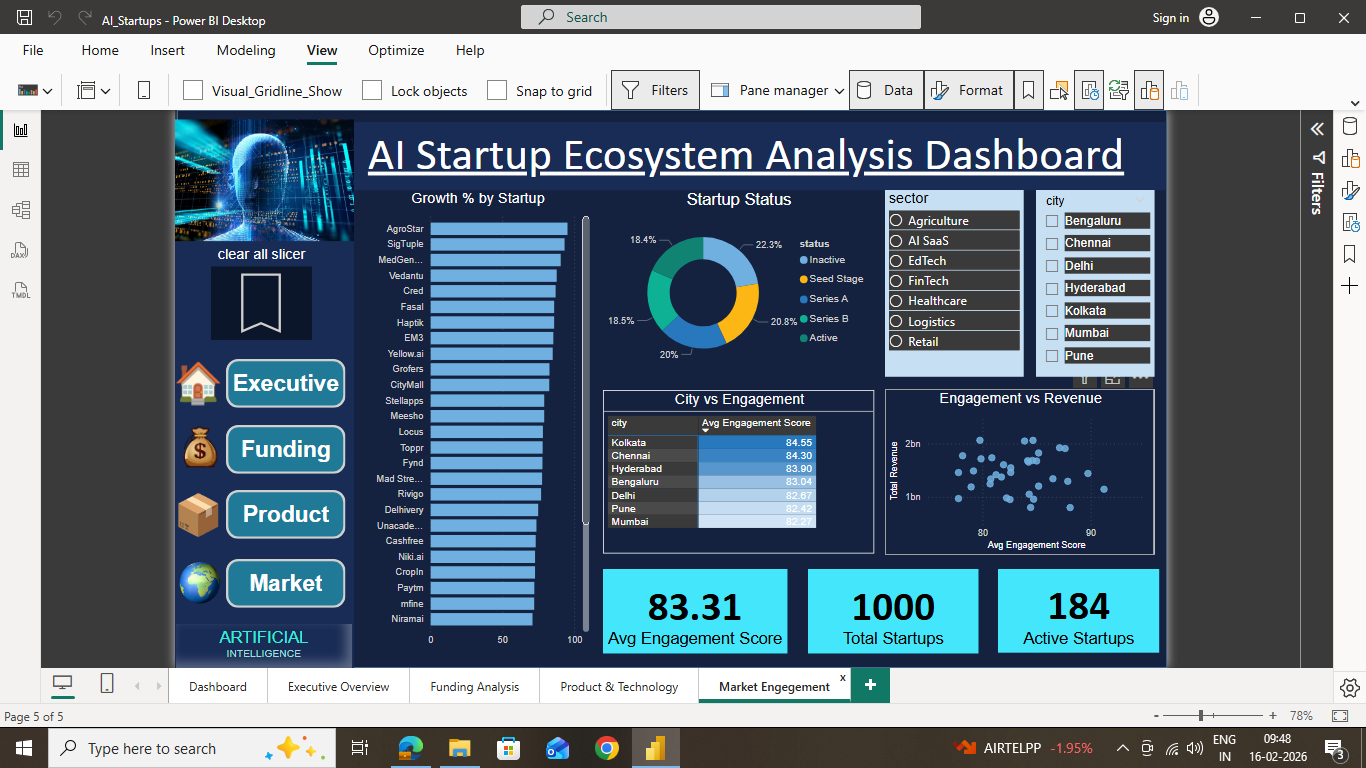

The dashboard page shown, as its layout file describes it:
{"tool":"powerbi","page":{"name":"Market Engegement","canvas":[1280,720],"ordinal":4},"visuals":[{"type":"shape","box":[2.4,0,1277.6,720.1],"z":0},{"type":"actionButton","box":[65.7,321.4,154.3,62.9],"z":0,"group":"g6"},{"type":"actionButton","box":[65.7,491.4,154.3,62.9],"z":0,"group":"g3"},{"type":"group","id":"g1","title":"Group 4","box":[5.7,571.4,214.3,77.1],"z":0,"group":"g5"},{"type":"actionButton","box":[65.7,578.5,154.3,62.9],"z":0,"group":"g1"},{"type":"textbox","box":[194.6,16.1,1083.9,87.5],"z":1000},{"type":"image","box":[0,321.4,60,62.9],"z":1000,"group":"g6"},{"type":"image","box":[0,485.7,60,74.3],"z":1000,"group":"g3"},{"type":"image","box":[5.7,571.4,54.3,77.1],"z":1000,"group":"g1"},{"type":"shape","box":[0,15.5,231,705.2],"z":2000},{"type":"image","box":[0,5.2,231,170.7],"z":3000},{"type":"card","fields":{"Values":["measure.Avg Engagement Score"]},"box":[552.4,591.7,237.8,109.1],"z":4000},{"type":"donutChart","title":"Startup Status","fields":{"Y":["measure.Total Startups"],"Category":["AI_Startups.status"]},"box":[552.4,103.7,350.4,241.3],"z":5000},{"type":"clusteredBarChart","title":"Growth % by Startup","fields":{"Category":["AI_Startups.startup_name"],"Y":["measure.Avg Growth %"]},"box":[243.1,103.7,296.8,597.1],"z":6000},{"type":"scatterChart","title":"Engagement vs Revenue","fields":{"X":["measure.Avg Engagement Score"],"Y":["measure.Total Revenue"],"Category":["AI_Startups.startup_name"]},"box":[915.5,360.3,348.3,213.8],"z":7000},{"type":"listSlicer","fields":{"Values":["AI_Startups.sector"]},"box":[915.5,103.4,179.3,241.4],"z":8000},{"type":"pivotTable","title":"City vs Engagement","fields":{"Rows":["AI_Startups.city"],"Values":["measure.Avg Engagement Score"]},"box":[552.4,361.1,350.4,210.9],"z":9000},{"type":"slicer","fields":{"Values":["AI_Startups.city"]},"box":[1110.3,103.4,153.4,241.4],"z":10000},{"type":"card","fields":{"Values":["measure.Total Startups"]},"box":[817,591.7,219.9,109.1],"z":11000},{"type":"card","fields":{"Values":["measure.Active Startups"]},"box":[1061.7,591.7,208.3,108.3],"z":12000},{"type":"group","id":"g2","title":"Group 6","box":[0,321.4,220,327.1],"z":13000},{"type":"group","id":"g3","title":"Group 1","box":[0,485.7,220,74.3],"z":13000,"group":"g2"},{"type":"group","id":"g4","title":"Group 2","box":[0,390,220,90],"z":14000,"group":"g2"},{"type":"textbox","box":[1,663.3,226.7,56.7],"z":14000},{"type":"actionButton","box":[65.7,407.1,154.3,62.9],"z":14004,"group":"g4"},{"type":"image","box":[0,390,65.7,90],"z":14010,"group":"g4"},{"type":"actionButton","title":"clear all slicer","box":[46.5,175.2,130.5,121.6],"z":15000},{"type":"group","id":"g5","title":"Group 3","box":[5.7,571.4,214.3,77.1],"z":15000,"group":"g2"},{"type":"group","id":"g6","title":"Group 5","box":[0,321.4,220,62.9],"z":16002,"group":"g2"}]}

Visuals, with their boxes on the page's 1280x720 design canvas (x1, y1, x2, y2). These are canvas units, not pixel positions in the 1366x768 screenshot, which may show the page scaled, cropped or inside an application window:
shape: bbox(2, 0, 1280, 720)
actionButton: bbox(66, 321, 220, 384)
actionButton: bbox(66, 491, 220, 554)
"Group 4" group: bbox(6, 571, 220, 648)
actionButton: bbox(66, 578, 220, 641)
textbox: bbox(195, 16, 1278, 104)
image: bbox(0, 321, 60, 384)
image: bbox(0, 486, 60, 560)
image: bbox(6, 571, 60, 648)
shape: bbox(0, 16, 231, 721)
image: bbox(0, 5, 231, 176)
card - measure.Avg Engagement Score: bbox(552, 592, 790, 701)
"Startup Status" donutChart: bbox(552, 104, 903, 345)
"Growth % by Startup" clusteredBarChart: bbox(243, 104, 540, 701)
"Engagement vs Revenue" scatterChart: bbox(916, 360, 1264, 574)
listSlicer - AI_Startups.sector: bbox(916, 103, 1095, 345)
"City vs Engagement" pivotTable: bbox(552, 361, 903, 572)
slicer - AI_Startups.city: bbox(1110, 103, 1264, 345)
card - measure.Total Startups: bbox(817, 592, 1037, 701)
card - measure.Active Startups: bbox(1062, 592, 1270, 700)
"Group 6" group: bbox(0, 321, 220, 648)
"Group 1" group: bbox(0, 486, 220, 560)
"Group 2" group: bbox(0, 390, 220, 480)
textbox: bbox(1, 663, 228, 720)
actionButton: bbox(66, 407, 220, 470)
image: bbox(0, 390, 66, 480)
"clear all slicer" actionButton: bbox(46, 175, 177, 297)
"Group 3" group: bbox(6, 571, 220, 648)
"Group 5" group: bbox(0, 321, 220, 384)
